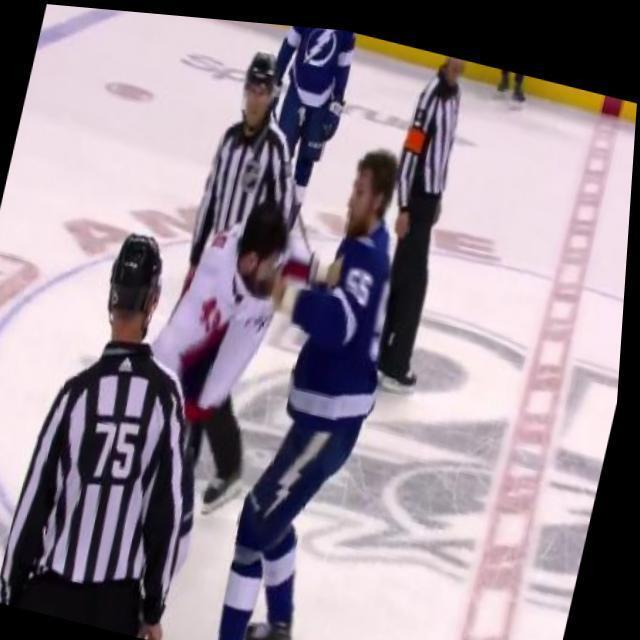fight: (108, 95, 430, 640)
